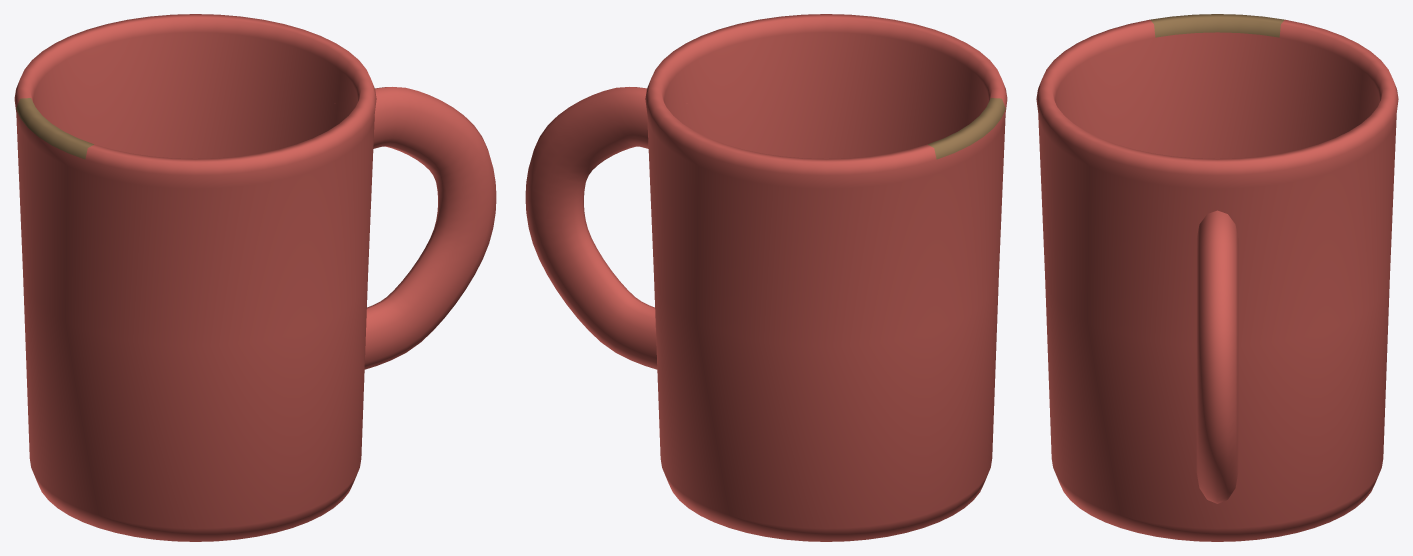
Rendered from kitchen_mug_dirty_a.fbx.
3 views of the same model, side by side, from view 1: azimuth 30°, elevation 25°; view 2: azimuth 150°, elevation 25°; view 3: azimuth 270°, elevation 25° (orthographic).
Parts seen in each view (by area): view 1: kitchen_mug_dirty_a; view 2: kitchen_mug_dirty_a; view 3: kitchen_mug_dirty_a.
Boxes of the visible parts, left/top/right/bottom form: kitchen_mug_dirty_a: left=14, top=14, right=496, bottom=541; kitchen_mug_dirty_a: left=525, top=14, right=1007, bottom=541; kitchen_mug_dirty_a: left=1036, top=14, right=1398, bottom=541.
Size of the model in its own units: 0.1175 by 0.095 by 0.0808.
